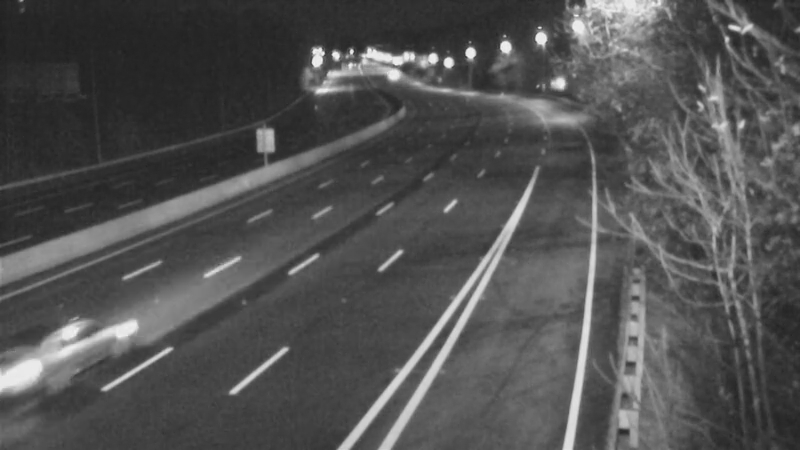vehicle: (18, 294, 128, 404), (367, 50, 417, 100)
